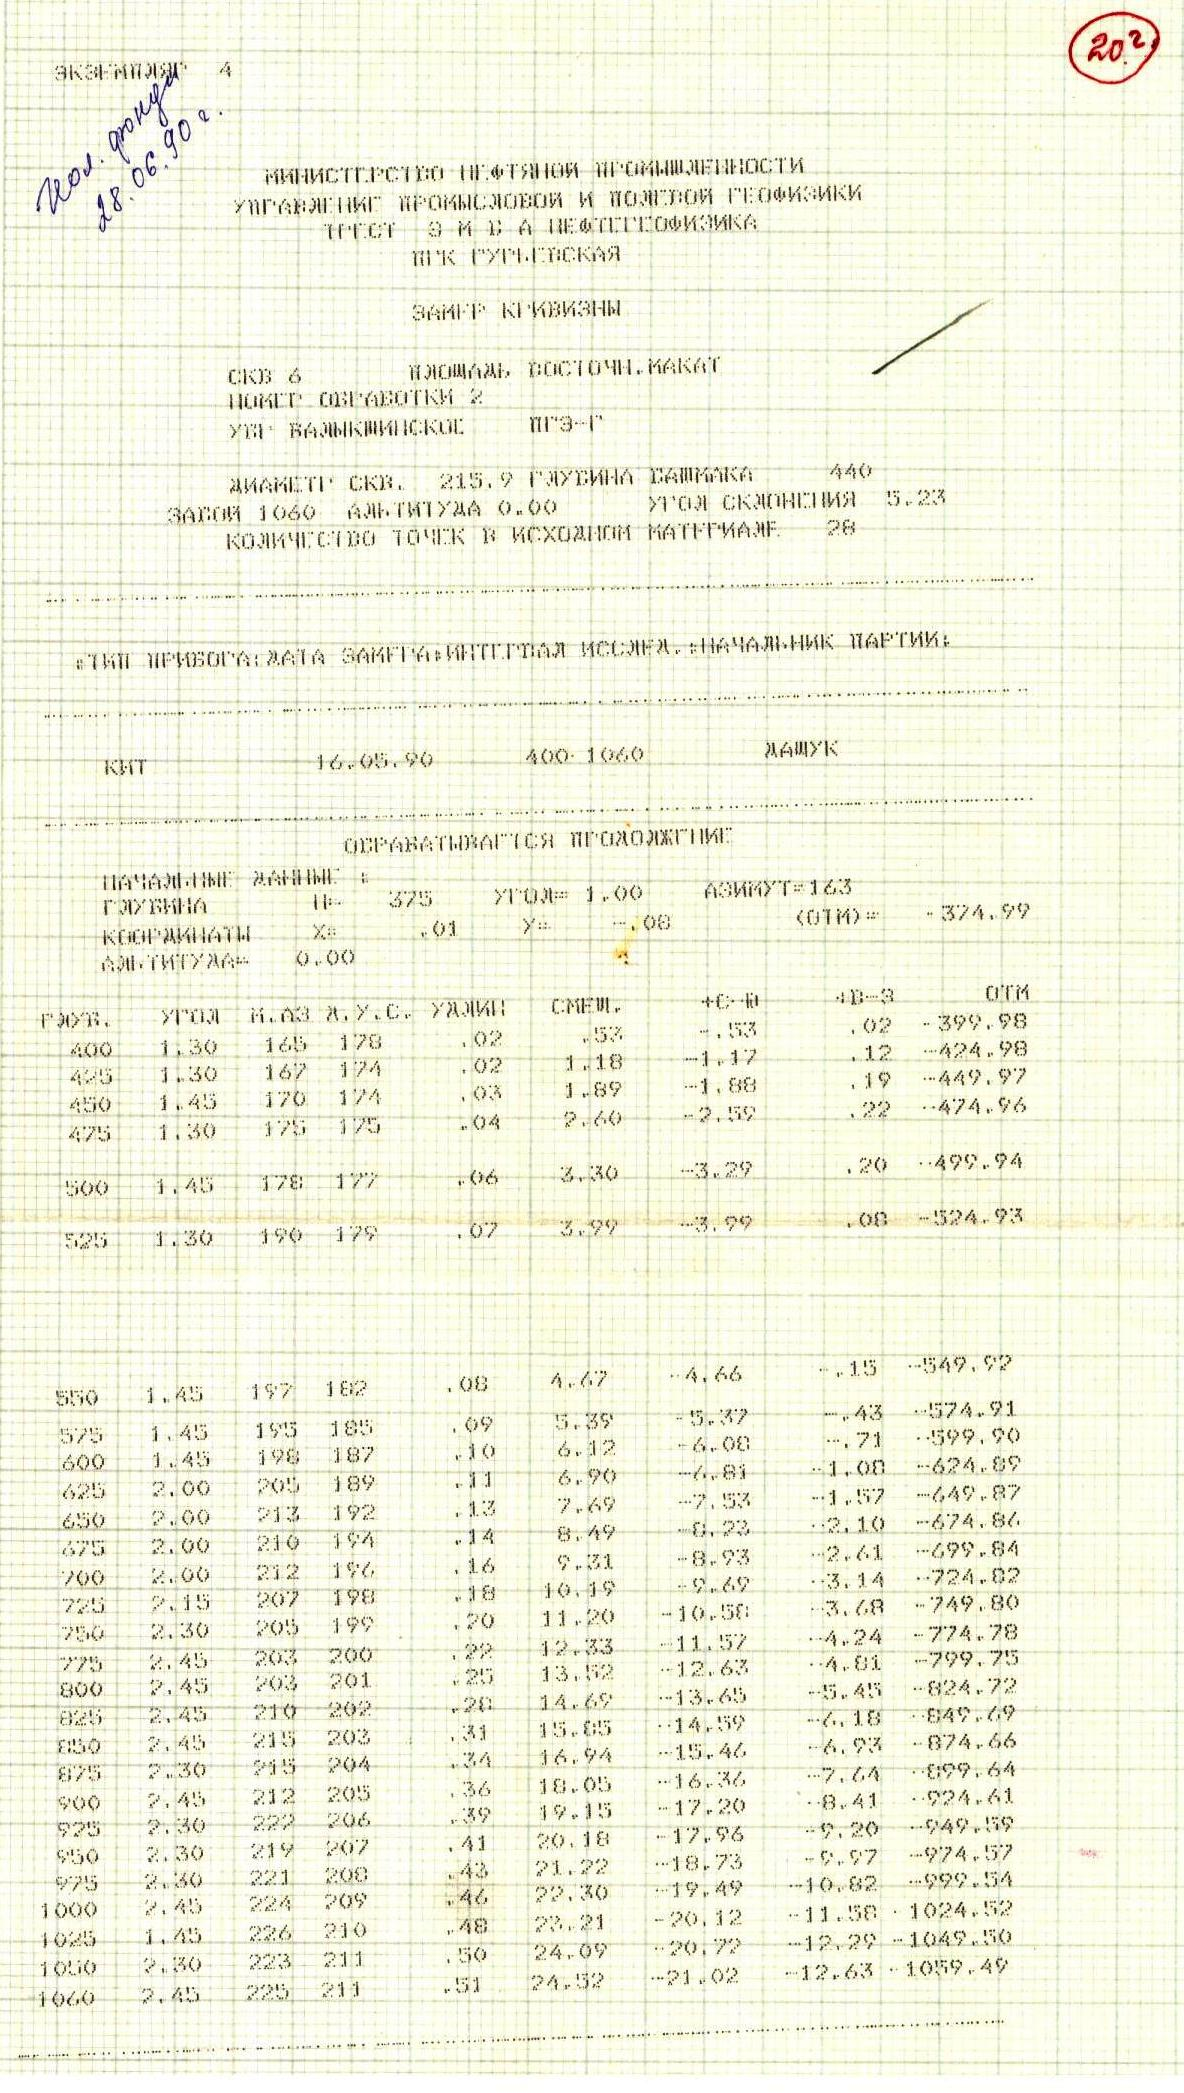Borderless: (9, 965, 1078, 2011)
